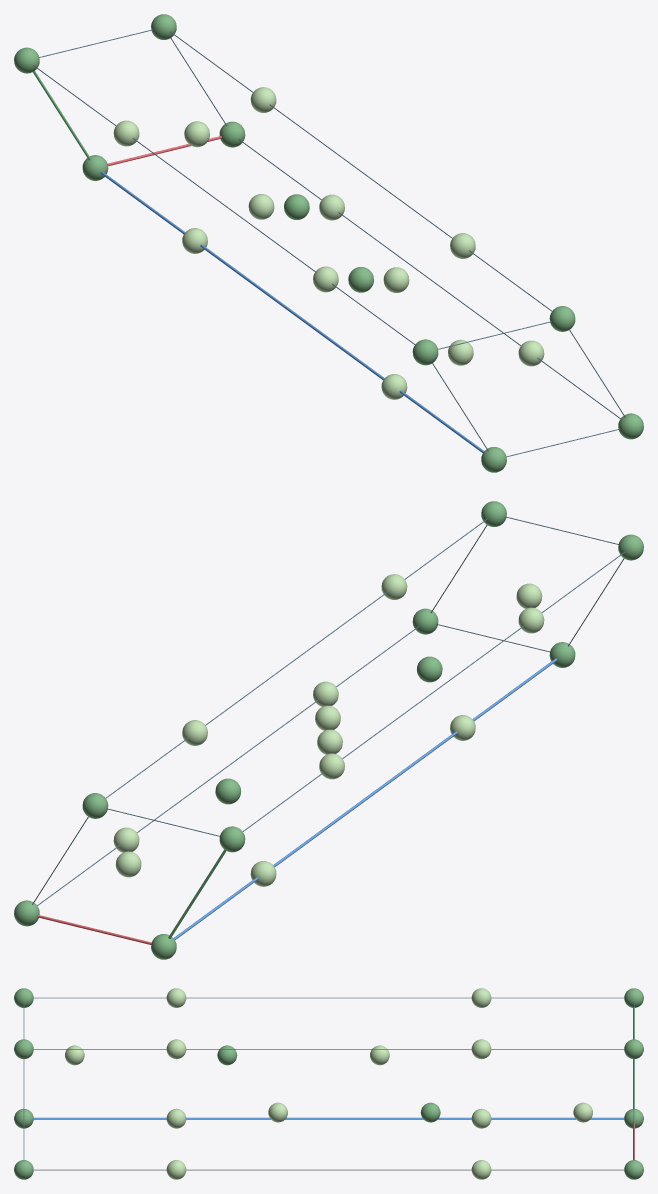
Rendered from chat-nickel-iodide.glb.
The picture shows the model from 3 angles, top to bottom: view 1: azimuth 30°, elevation 25°; view 2: azimuth 150°, elevation 25°; view 3: azimuth 270°, elevation 25°; orthographic projection. The views are drawn at different scales.
Parts seen in each view (by area): view 1: Ô mạng và các trục a, b, c; view 2: Ô mạng và các trục a, b, c; view 3: Ô mạng và các trục a, b, c, I · I · 1 (×12), Ni · Ni · 1 (×10).
Boxes of the visible parts, left/top/right/bottom form: Ô mạng và các trục a, b, c: left=33, top=29, right=625, bottom=456; Ô mạng và các trục a, b, c: left=32, top=516, right=624, bottom=944; Ô mạng và các trục a, b, c: left=23, top=997, right=634, bottom=1170; I · I · 1 (×12): left=65, top=988, right=592, bottom=1179; Ni · Ni · 1 (×10): left=14, top=988, right=643, bottom=1179.
Bounding box in the file's own units: 6.49 × 4.02 × 20.31.
